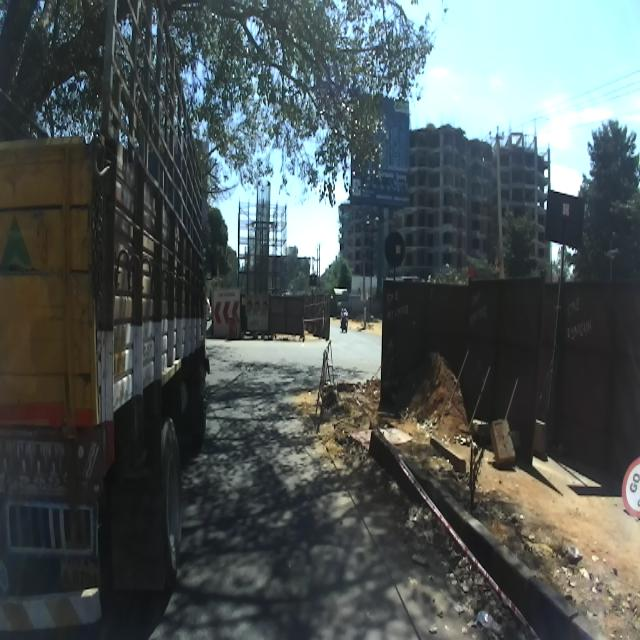truck ahead at: (0, 0, 212, 633)
